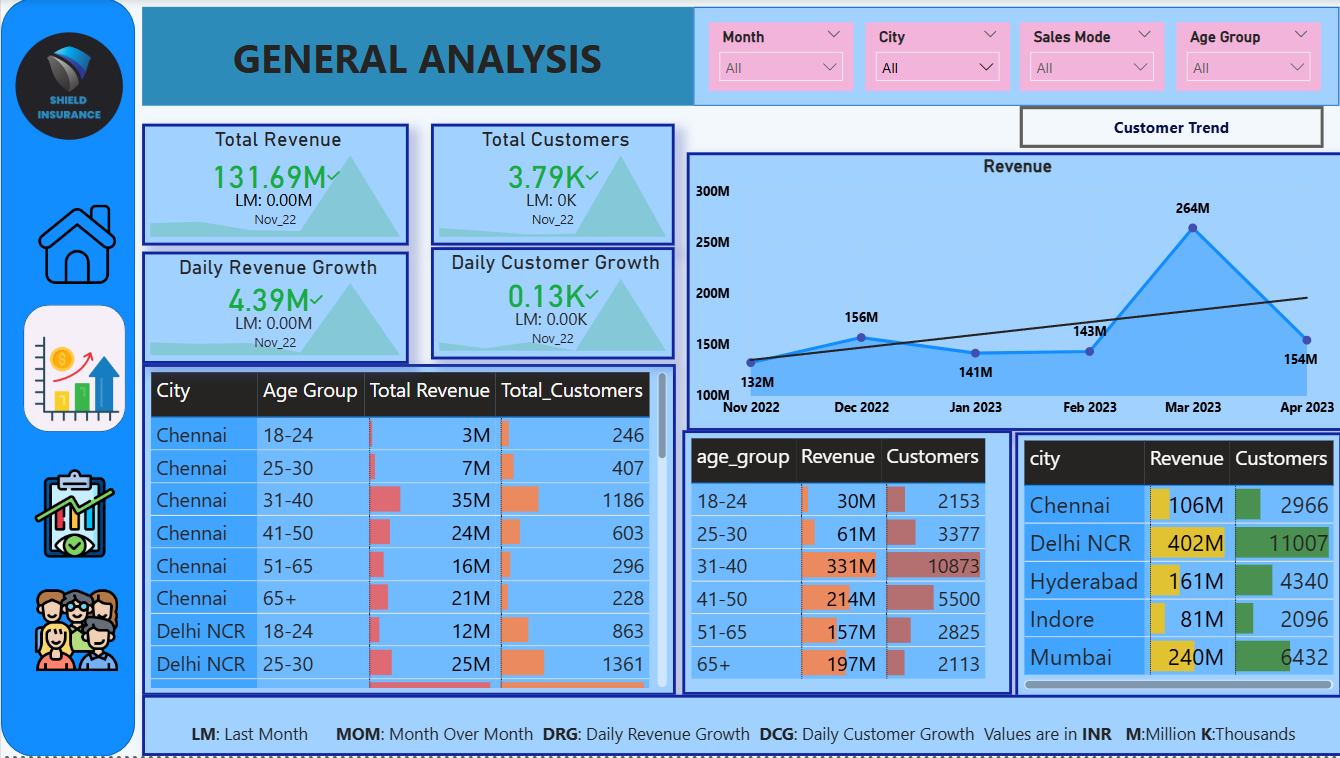

Layout of this report page (visuals, bound fields, positions):
{"tool":"powerbi","page":{"name":"General View","canvas":[1280,720],"ordinal":1},"visuals":[{"type":"shape","box":[0,0,127.3,720],"z":0},{"type":"textbox","box":[133.8,9,522.7,94.1],"z":1000},{"type":"shape","box":[656.6,9,613.2,94.1],"z":2000},{"type":"image","box":[27.1,184.5,90.4,99.5],"z":3000},{"type":"image","box":[27.1,549.8,90.4,99.5],"z":4000},{"type":"slicer","fields":{"Values":["dim_customer.city"]},"box":[820.6,23.5,137.3,65.1],"z":5000,"group":"g1"},{"type":"image","box":[4.7,23.7,121,121],"z":5000},{"type":"group","id":"g1","title":"Group 1","box":[672.8,23.5,580.6,65.1],"z":6000},{"type":"shape","box":[21.7,291.2,97.7,121.2],"z":7000},{"type":"image","box":[23.5,439.5,94.1,99.5],"z":8000},{"type":"slicer","fields":{"Values":["dim_date.mmm_yy"]},"box":[672.8,23.5,137.3,65.1],"z":9000,"group":"g1"},{"type":"tableEx","fields":{"Values":["dim_customer.city","dim_customer.age_group","Key Metrics.Revenue","Key Metrics.Total_Customers"]},"box":[133.8,347.3,506.4,314.7],"z":9000},{"type":"slicer","fields":{"Values":["fact_premiums.sales_mode"]},"box":[968.3,23.5,137.3,65.1],"z":10000,"group":"g1"},{"type":"kpi","title":"Total Revenue ","fields":{"Indicator":["Key Metrics.Total_Revenue"],"TrendLine":["dim_date.mmm_yy"],"Goal":["Key Metrics.Total_Revenue_LM(E)"]},"box":[133.8,119.4,253.2,115.8],"z":10000},{"type":"slicer","fields":{"Values":["dim_customer.age_group"]},"box":[1116.1,23.5,137.3,65.1],"z":11000,"group":"g1"},{"type":"kpi","title":"Total Customers","fields":{"Indicator":["Key Metrics.Total_Customers"],"TrendLine":["dim_date.mmm_yy"],"Goal":["Key Metrics.Total_Customers_LM(E)"]},"box":[408.8,119.4,231.5,115.8],"z":11000},{"type":"kpi","title":"Daily Revenue Growth","fields":{"Goal":["Key Metrics.DRG_LM(E)"],"Indicator":["Key Metrics.DRG"],"TrendLine":["dim_date.mmm_yy"]},"box":[133.8,240.6,253.2,106.7],"z":12000},{"type":"kpi","title":"Daily Customer Growth ","fields":{"Indicator":["Key Metrics.DCG"],"TrendLine":["dim_date.mmm_yy"],"Goal":["Key Metrics.DCG_LM(E)"]},"box":[408.8,236.9,231.5,106.7],"z":13000},{"type":"lineChart","title":"Revenue ","fields":{"Y":["Key Metrics.Revenue"],"Category":["dim_date.date.Variation.Date Hierarchy.Year","dim_date.date.Variation.Date Hierarchy.Month"]},"box":[650,145.8,622.9,264.6],"z":14000},{"type":"tableEx","fields":{"Values":["dim_customer.age_group","Key Metrics.Revenue","Key Metrics.Total_Customers"]},"box":[645.7,410.6,312.9,251.4],"z":15000},{"type":"tableEx","fields":{"Values":["dim_customer.city","Key Metrics.Revenue","Key Metrics.Total_Customers"]},"box":[962.5,412.5,310.4,252.1],"z":16000},{"type":"actionButton","box":[967.9,102,288.6,39.8],"z":17000},{"type":"image","box":[27.1,311.1,90.4,99.5],"z":18000},{"type":"textbox","box":[134.5,661.8,1141.8,58.2],"z":21000}]}

Visuals, with their boxes in screenshot pixels (x1, y1, x2, y2), scaled from the page's 1280x720 canvas onto the 1340x758 screenshot:
shape: x1=0, y1=0, x2=133, y2=757
textbox: x1=140, y1=9, x2=687, y2=109
shape: x1=687, y1=9, x2=1329, y2=109
image: x1=28, y1=194, x2=123, y2=299
image: x1=28, y1=579, x2=123, y2=684
slicer - dim_customer.city: x1=859, y1=25, x2=1003, y2=93
image: x1=5, y1=25, x2=132, y2=152
"Group 1" group: x1=704, y1=25, x2=1312, y2=93
shape: x1=23, y1=307, x2=125, y2=434
image: x1=25, y1=463, x2=123, y2=567
slicer - dim_date.mmm_yy: x1=704, y1=25, x2=848, y2=93
tableEx - dim_customer.city x dim_customer.age_group: x1=140, y1=366, x2=670, y2=697
slicer - fact_premiums.sales_mode: x1=1014, y1=25, x2=1157, y2=93
"Total Revenue " kpi: x1=140, y1=126, x2=405, y2=248
slicer - dim_customer.age_group: x1=1168, y1=25, x2=1312, y2=93
"Total Customers" kpi: x1=428, y1=126, x2=670, y2=248
"Daily Revenue Growth" kpi: x1=140, y1=253, x2=405, y2=366
"Daily Customer Growth " kpi: x1=428, y1=249, x2=670, y2=362
"Revenue " lineChart: x1=680, y1=153, x2=1333, y2=432
tableEx - dim_customer.age_group x Key Metrics.Revenue: x1=676, y1=432, x2=1004, y2=697
tableEx - dim_customer.city x Key Metrics.Revenue: x1=1008, y1=434, x2=1333, y2=700
actionButton: x1=1013, y1=107, x2=1315, y2=149
image: x1=28, y1=328, x2=123, y2=432
textbox: x1=141, y1=697, x2=1336, y2=757
